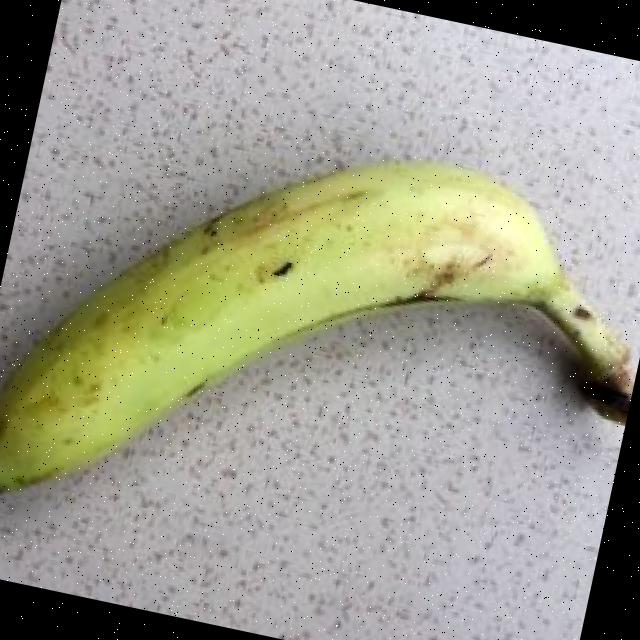banana: (0, 163, 635, 492)
